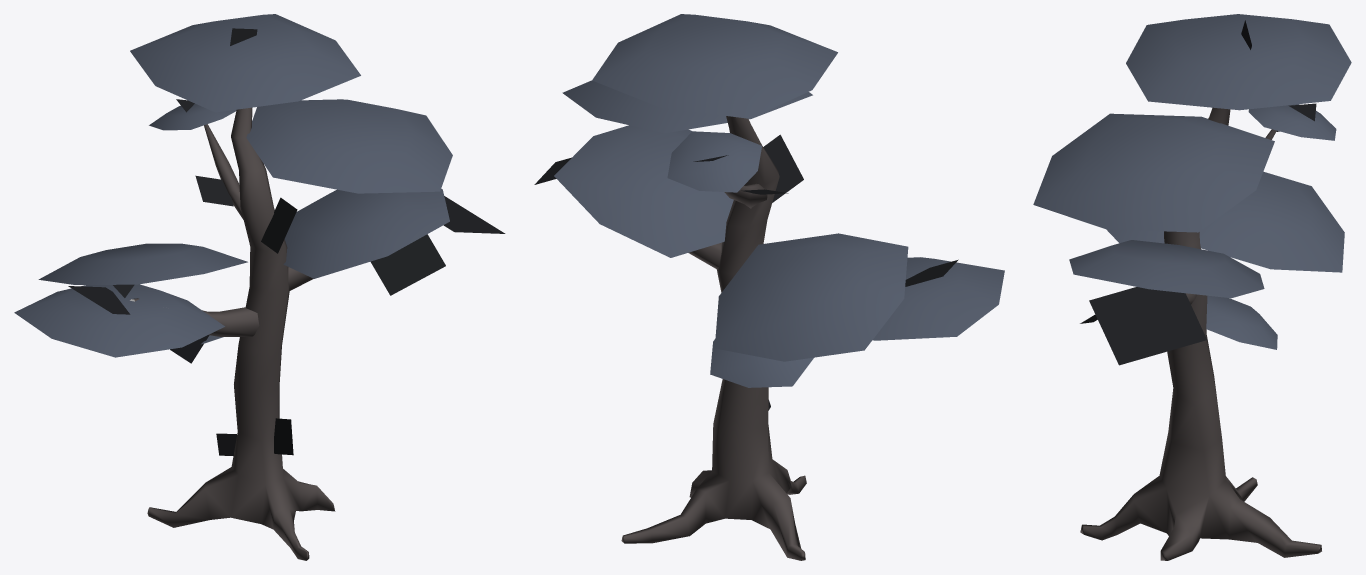
Rendered from sm_tree1.fbx.
3 renders of one model, left to right at view 1: azimuth 30°, elevation 25°; view 2: azimuth 150°, elevation 25°; view 3: azimuth 270°, elevation 25°, orthographic. The views are drawn at different scales.
Parts seen in each view (by area): view 1: tree1; view 2: tree1; view 3: tree1.
Part boxes in pixels (box(x1,y1,x2,y2)): tree1: box(14, 14, 505, 560); tree1: box(534, 14, 1004, 560); tree1: box(1033, 14, 1351, 560).
Bounding box in the file's own units: 386 × 408 × 227.
